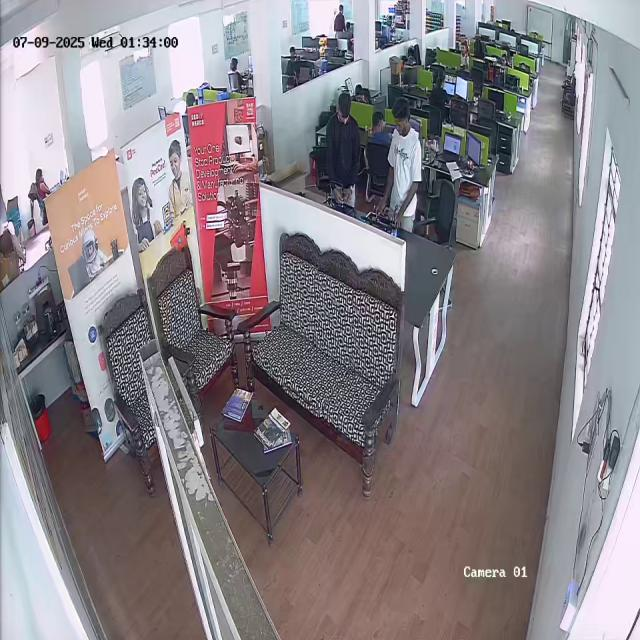person: (378, 98, 425, 235), (323, 92, 362, 208), (30, 167, 54, 207), (430, 70, 450, 112), (366, 111, 390, 145)
